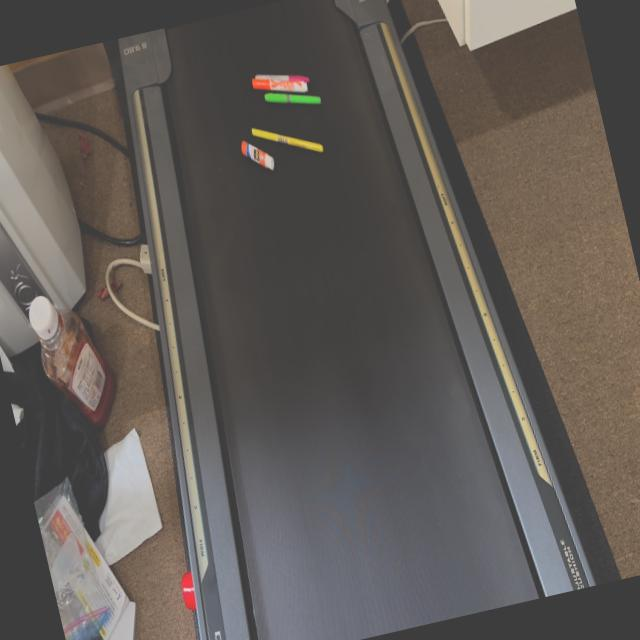Trash: (226, 110, 328, 184), (247, 54, 336, 132)
